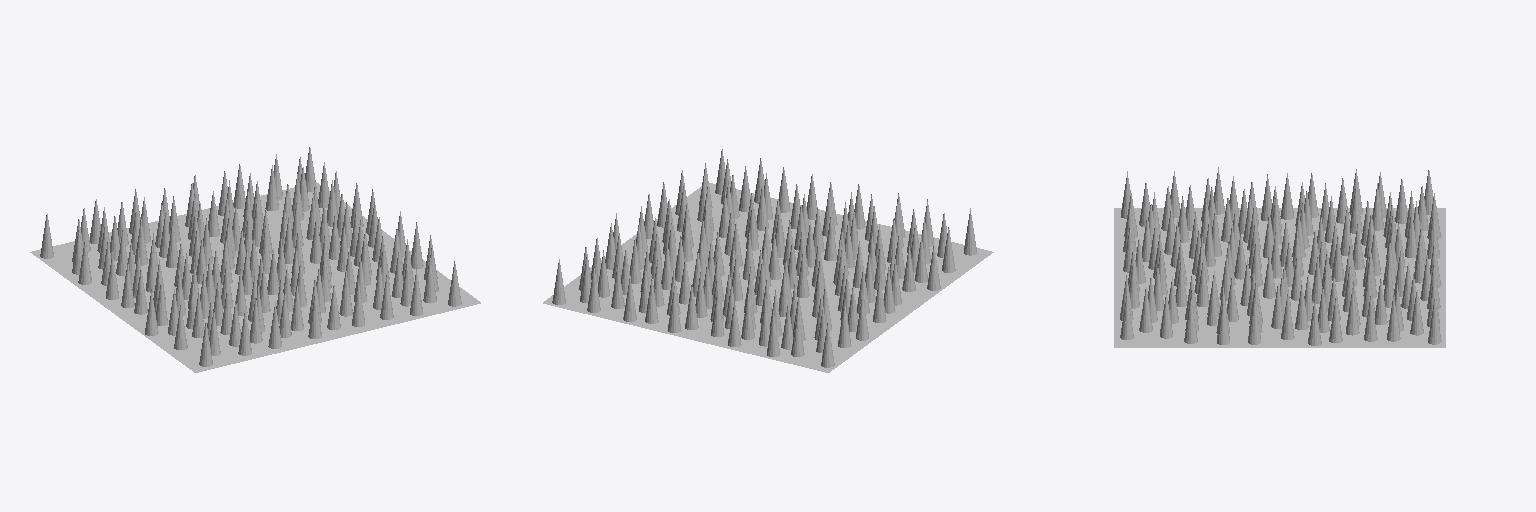
The model's file is spikes.obj.
3 renders of one model, left to right at view 1: azimuth 30°, elevation 25°; view 2: azimuth 150°, elevation 25°; view 3: azimuth 270°, elevation 25°, orthographic.
Visible parts, largest first — view 1: Cone.010, Plane; view 2: Cone.010, Plane; view 3: Cone.010, Plane.
Part boxes in pixels (left/top/right/bottom): Cone.010: left=40, top=147, right=461, bottom=366; Plane: left=30, top=182, right=480, bottom=372; Cone.010: left=552, top=149, right=976, bottom=367; Plane: left=543, top=183, right=993, bottom=372; Cone.010: left=1120, top=167, right=1441, bottom=345; Plane: left=1114, top=208, right=1445, bottom=347.
Bounding box in the file's own units: 6 × 0.9275 × 6.